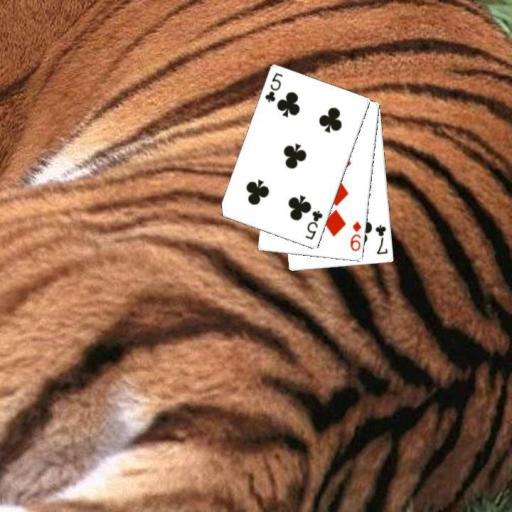5C: (262, 70, 285, 104), (302, 208, 324, 242)
7C: (373, 222, 390, 256)
9D: (347, 218, 363, 253)
